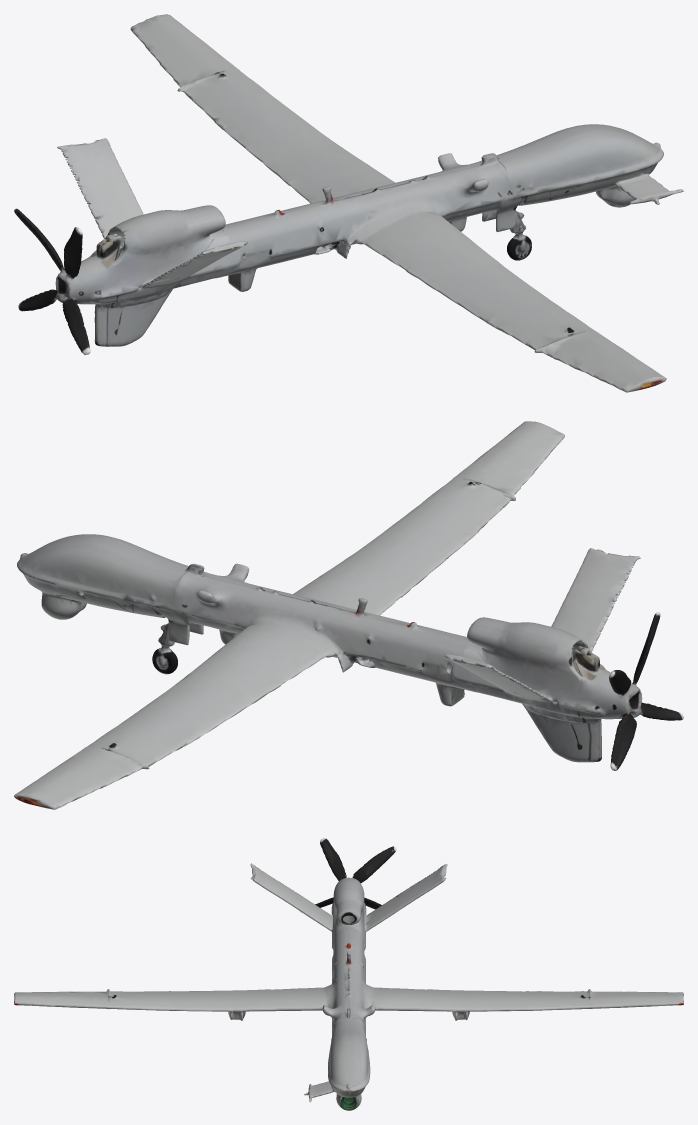
Rendered from hero.glb.
3 renders of one model, top to bottom at view 1: azimuth 30°, elevation 25°; view 2: azimuth 150°, elevation 25°; view 3: azimuth 270°, elevation 25°, orthographic. The views are drawn at different scales.
Parts seen in each view (by area): view 1: tripo_node_93a09c38-364e-4c85-b64f-05c789286581; view 2: tripo_node_93a09c38-364e-4c85-b64f-05c789286581; view 3: tripo_node_93a09c38-364e-4c85-b64f-05c789286581.
Boxes of the visible parts, left/top/right/bottom form: tripo_node_93a09c38-364e-4c85-b64f-05c789286581: left=14, top=14, right=683, bottom=392; tripo_node_93a09c38-364e-4c85-b64f-05c789286581: left=14, top=421, right=683, bottom=809; tripo_node_93a09c38-364e-4c85-b64f-05c789286581: left=14, top=838, right=683, bottom=1110.
Size of the model in its own units: 0.7115 by 0.1756 by 1.
1 material, 1 textured.
